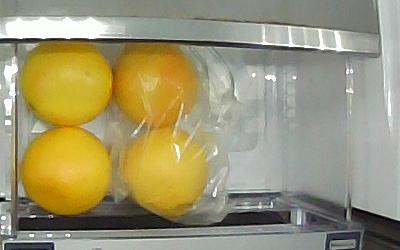grapefruit: (21, 126, 112, 213), (23, 47, 114, 126)
grapefruit_vinyl: (122, 128, 208, 215), (112, 49, 200, 127)
